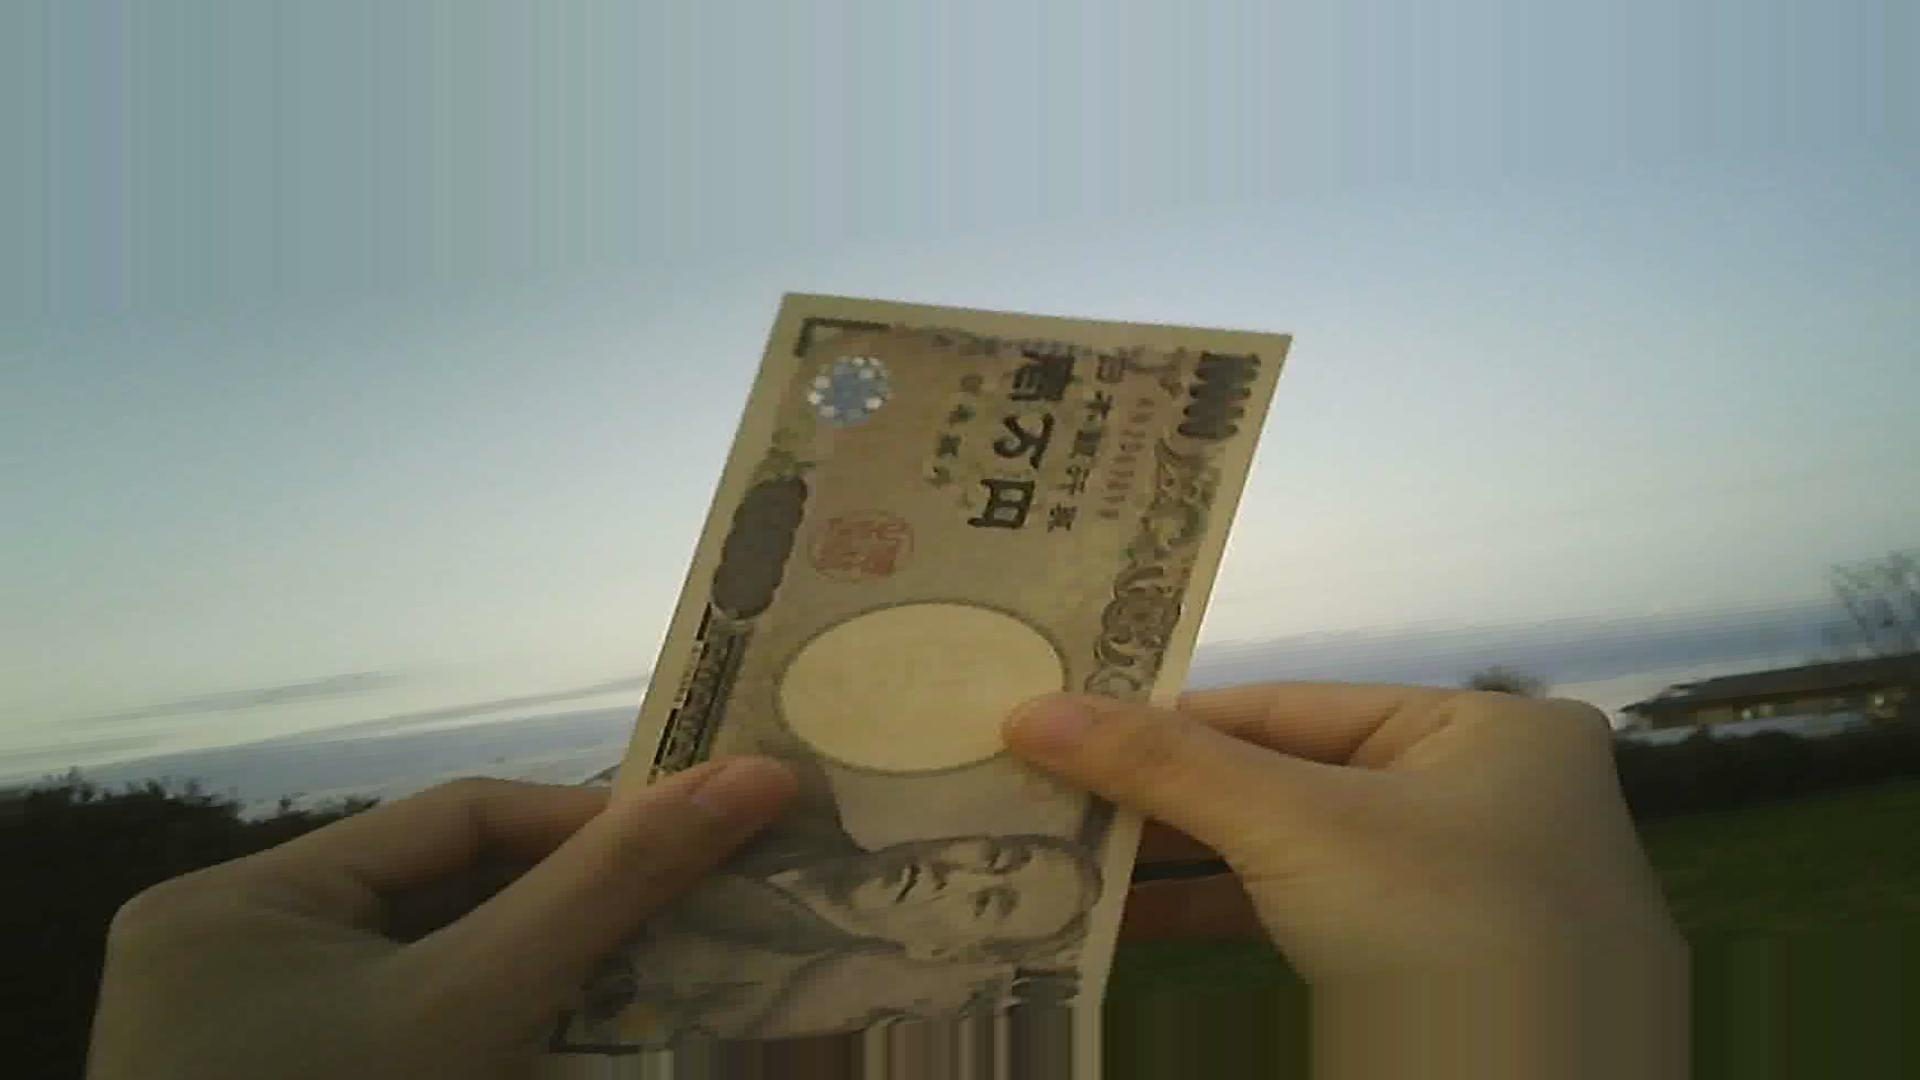10,000 Yen: (622, 266, 1291, 1030)
